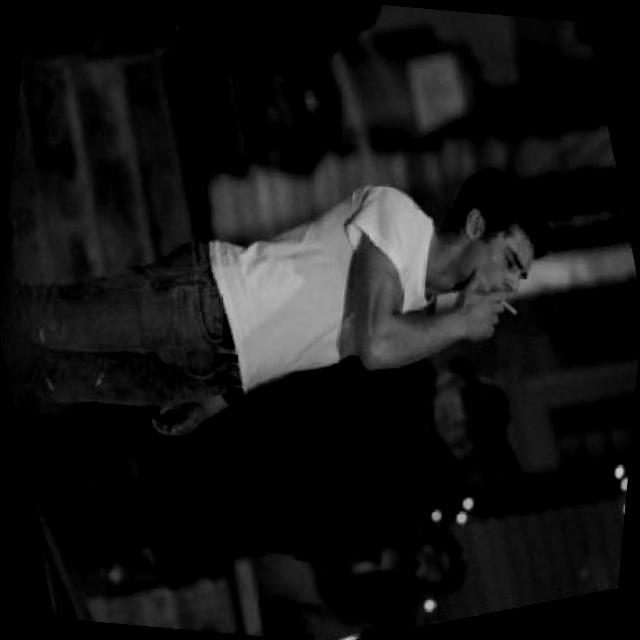cigarette: (496, 292, 522, 322)
